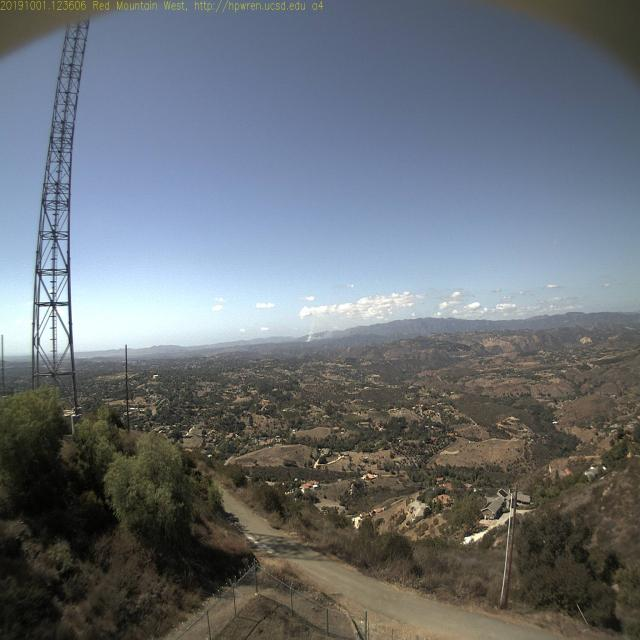smoke: (296, 316, 333, 344)
